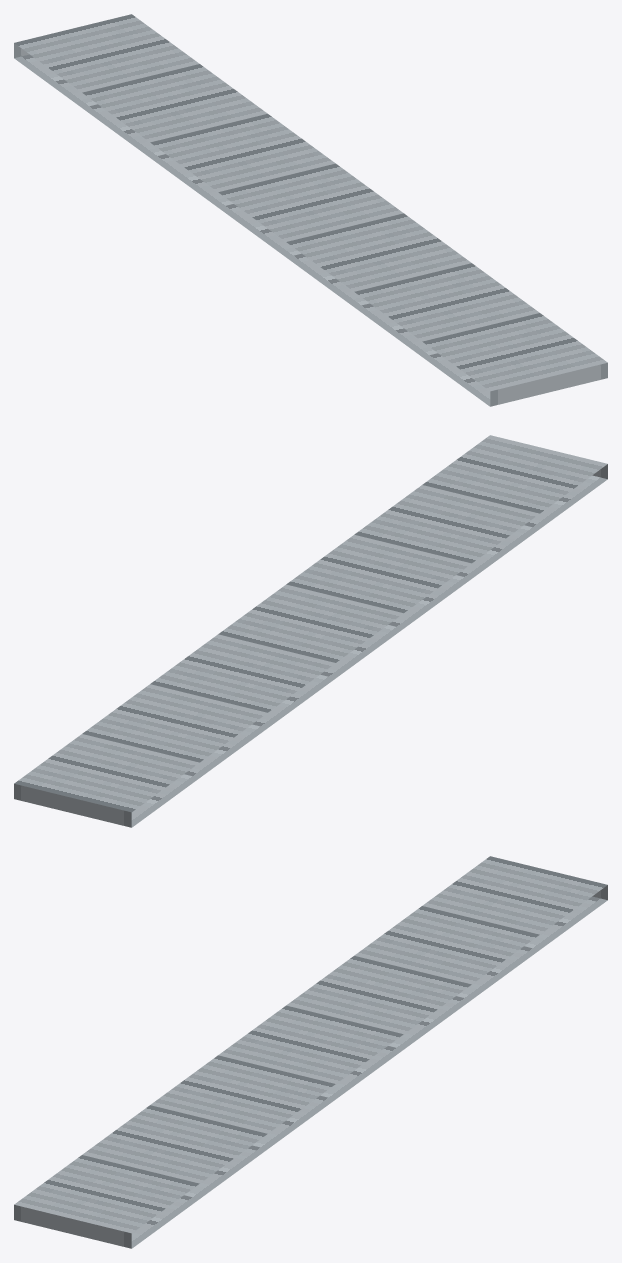
File: commercial_run_7.obj
3 views of the same model, one above another, from view 1: azimuth 30°, elevation 25°; view 2: azimuth 150°, elevation 25°; view 3: azimuth 330°, elevation 25° (orthographic).
Parts seen in each view (by area): view 1: run; view 2: run; view 3: run.
Boxes of the visible parts, left/top/right/bottom form: run: left=14, top=14, right=607, bottom=406; run: left=14, top=435, right=607, bottom=827; run: left=14, top=856, right=607, bottom=1248.
Size of the model in its own units: 1 by 0.125 by 7.
